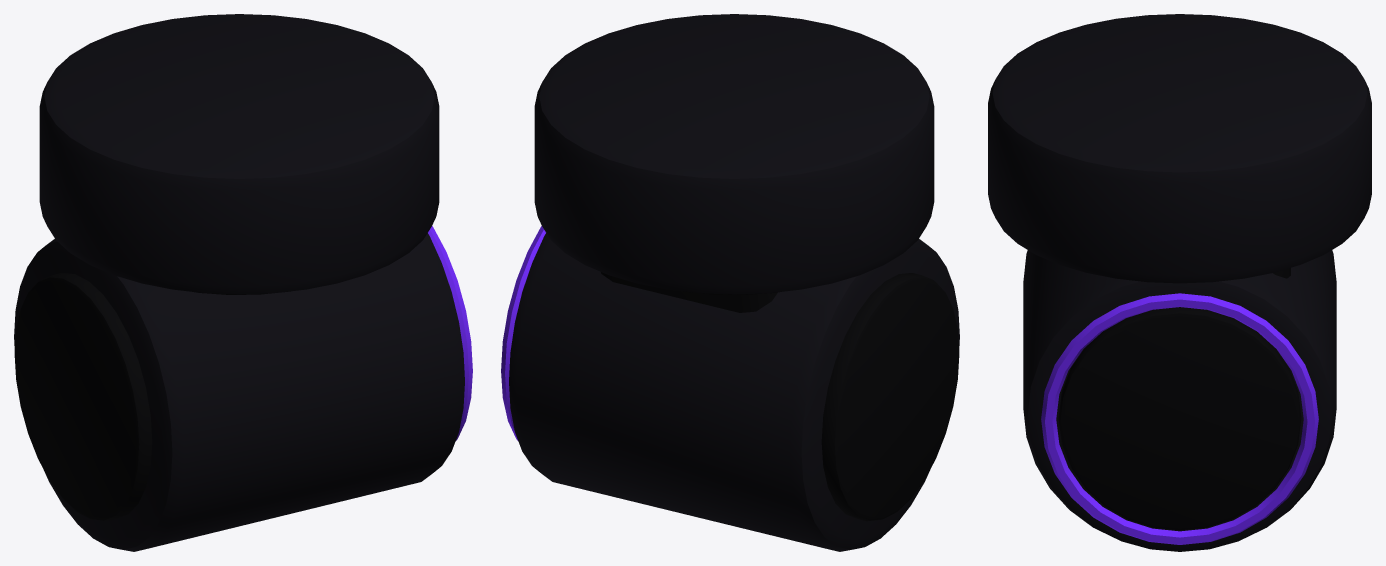
The model's file is coxa_l.obj.
3 views of the same model, side by side, from view 1: azimuth 30°, elevation 25°; view 2: azimuth 150°, elevation 25°; view 3: azimuth 270°, elevation 25° (orthographic). The views are drawn at different scales.
Visible parts, largest first — view 1: coxa_l; view 2: coxa_l; view 3: coxa_l.
Part boxes in pixels (bbox=[...]): coxa_l: bbox=[14, 14, 472, 551]; coxa_l: bbox=[501, 14, 959, 551]; coxa_l: bbox=[988, 14, 1371, 551].
Bounding box in the file's own units: 0.076 × 0.087 × 0.076.
